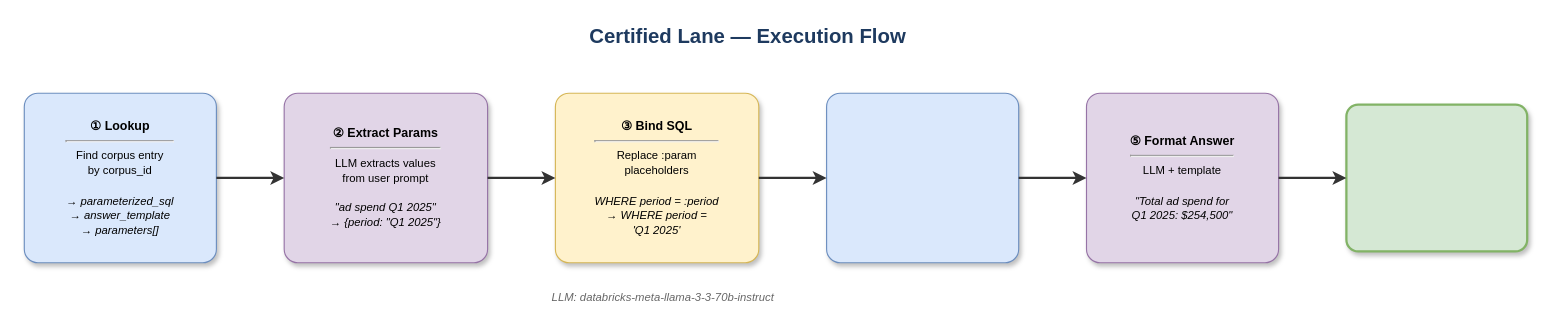
The diagram is 1555 pixels wide and 327 high, and some of its shapes have lost their labels. The centre of each missing label's shape, as x and y in pixels:
"④ Execute SQL SQL Warehouse (statement_execution) → {total_spend: 254500.75}" belongs at point (923, 179).
"⑥ Return Badge: Certified + full provenance (corpus_id, sql, params, latency)" belongs at point (1437, 179).
